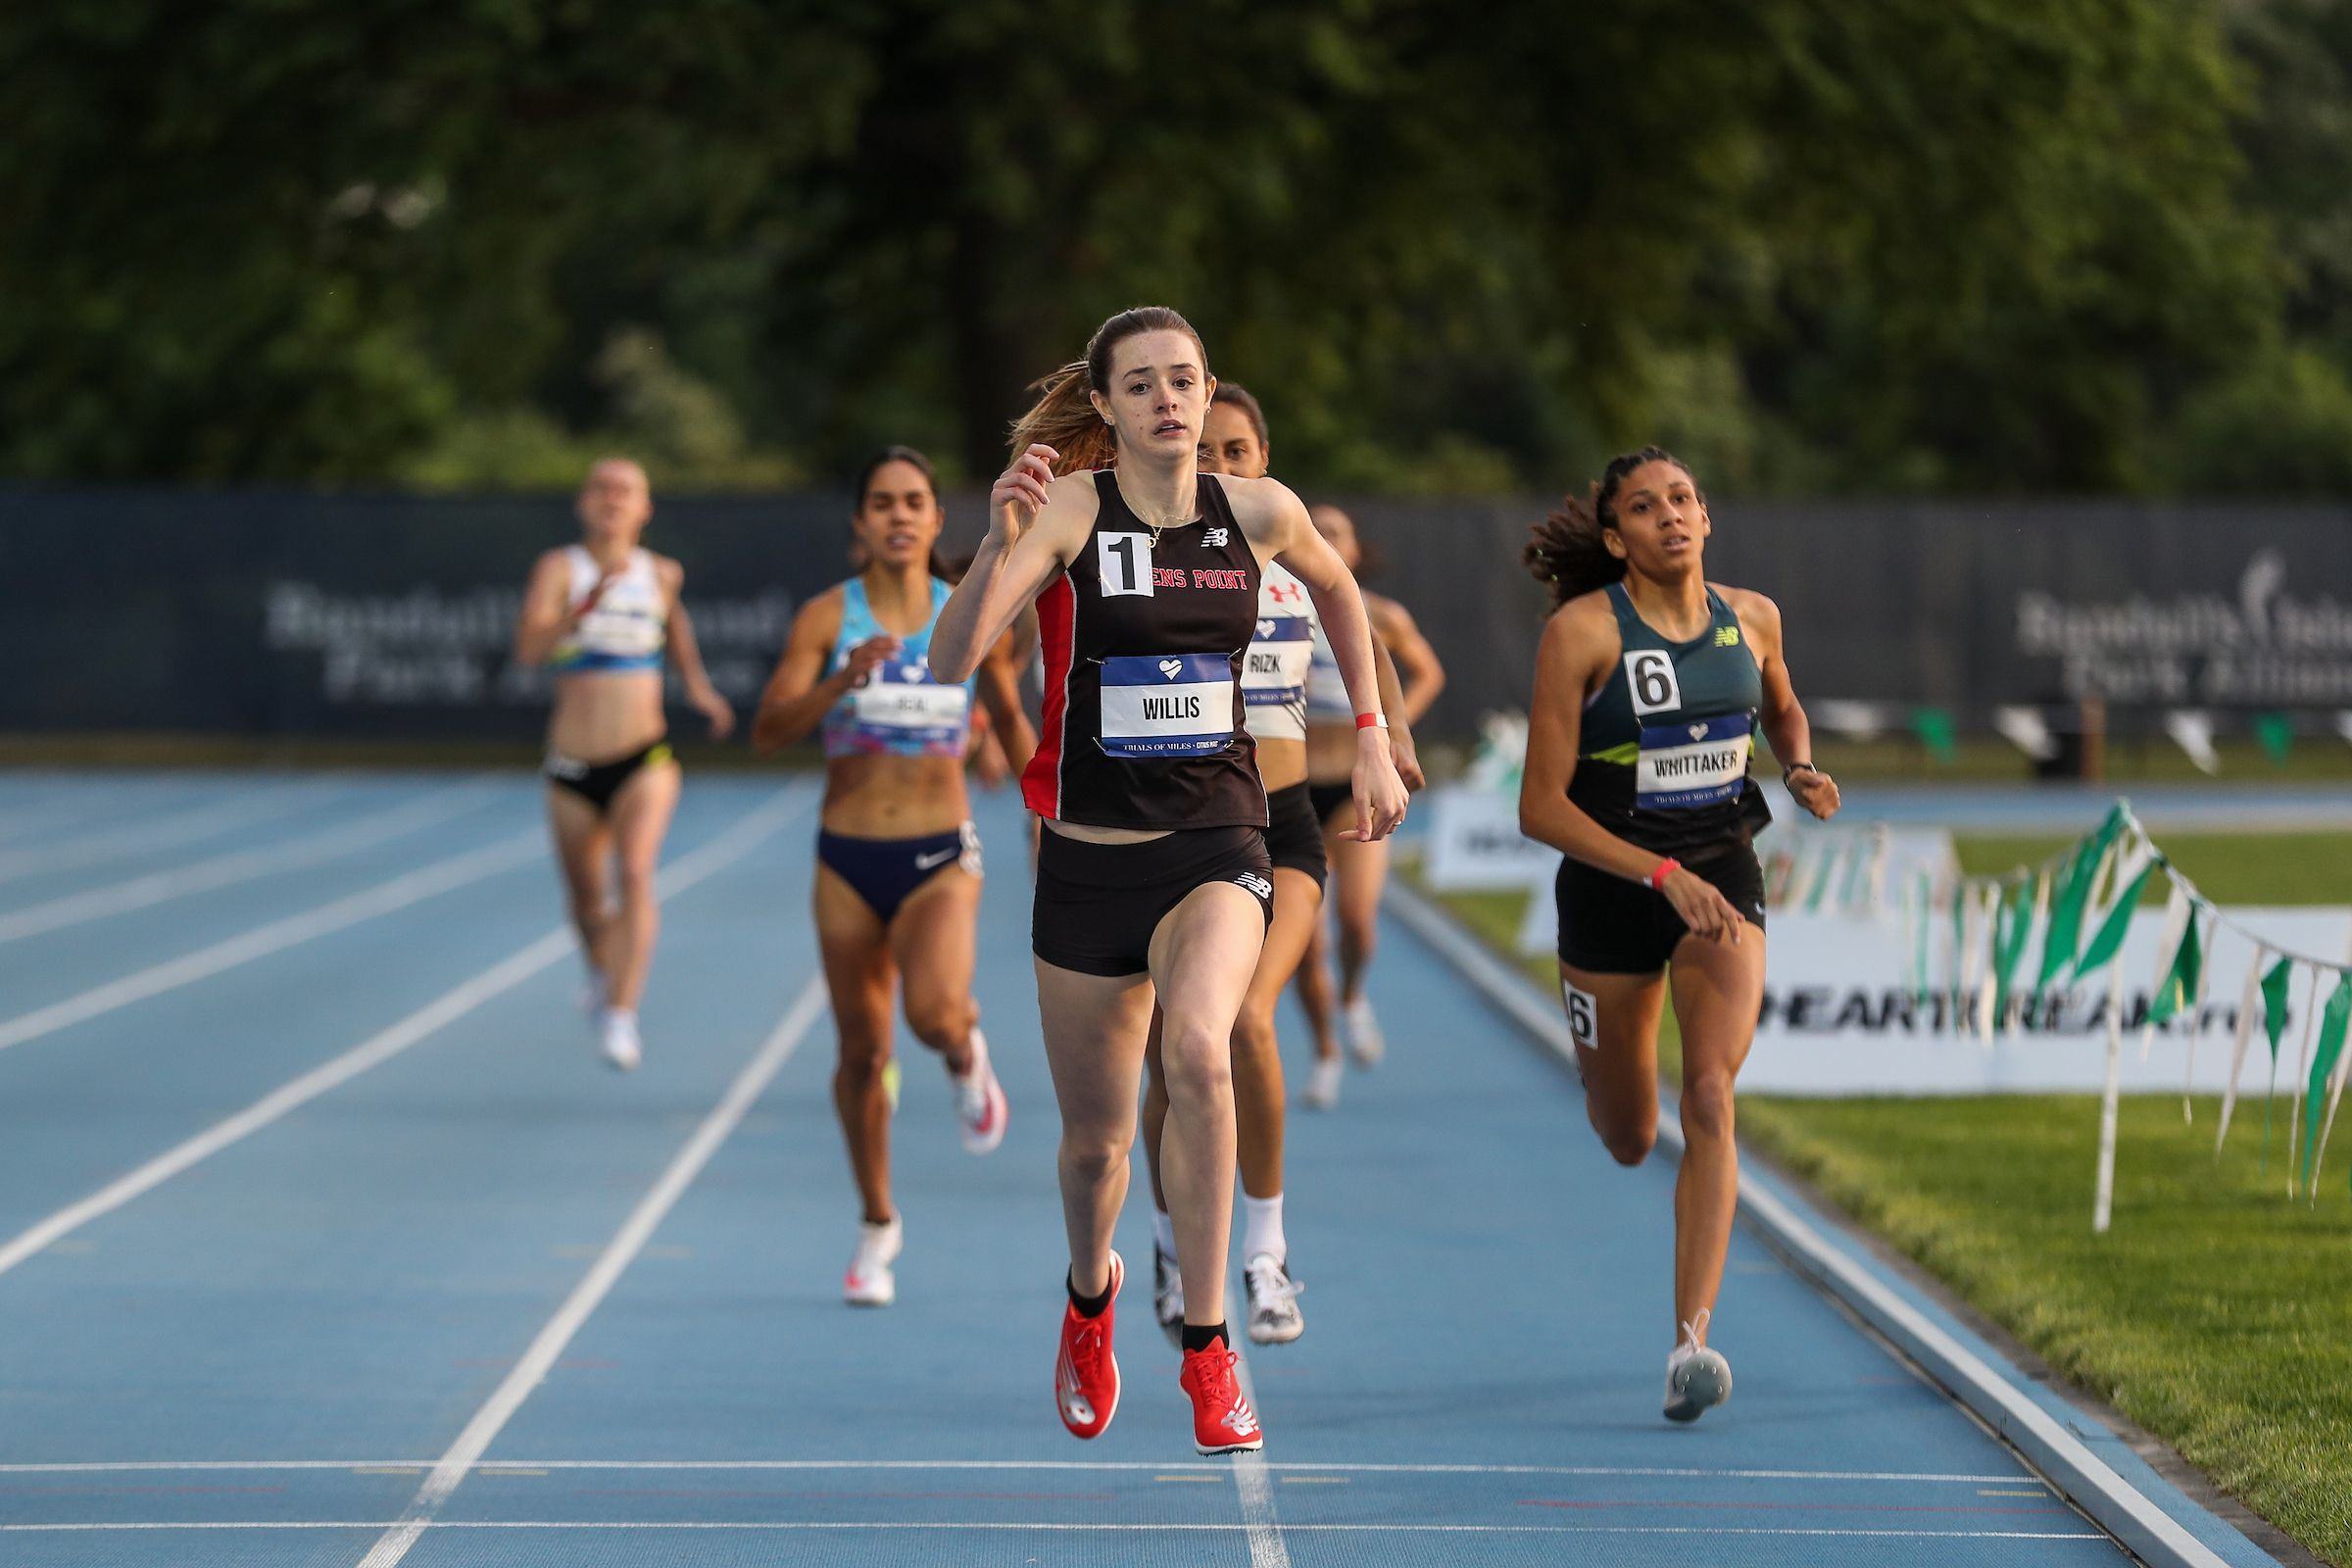runner: (933, 304, 1409, 1458), (1507, 448, 1848, 1428), (752, 446, 1019, 1309), (507, 448, 737, 1071)
